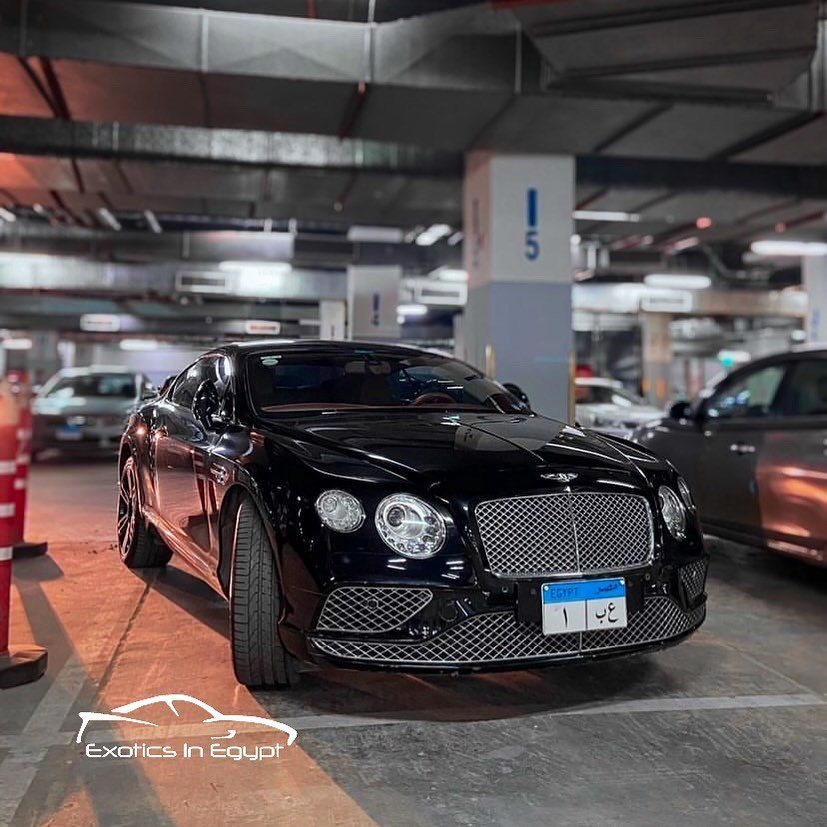carpl: (519, 565, 646, 645)
